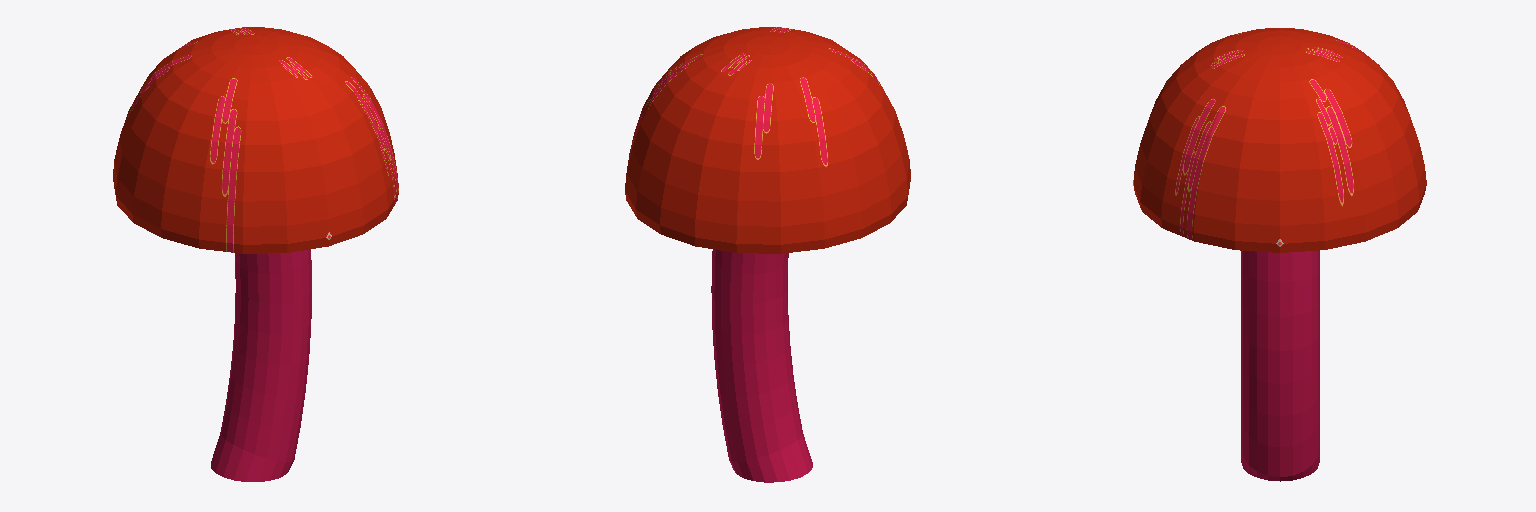
3 views of the same model, side by side, from view 1: azimuth 30°, elevation 25°; view 2: azimuth 150°, elevation 25°; view 3: azimuth 270°, elevation 25° (orthographic).
Visible parts, largest first — view 1: Shroom; view 2: Shroom; view 3: Shroom.
Part boxes in pixels (x1,y1,x2,y2): Shroom: (113, 27, 398, 481); Shroom: (625, 27, 910, 482); Shroom: (1133, 28, 1426, 481).
Size of the model in its own units: 6.83 by 11.14 by 7.02.
Materials: 2 (2 with a texture image).